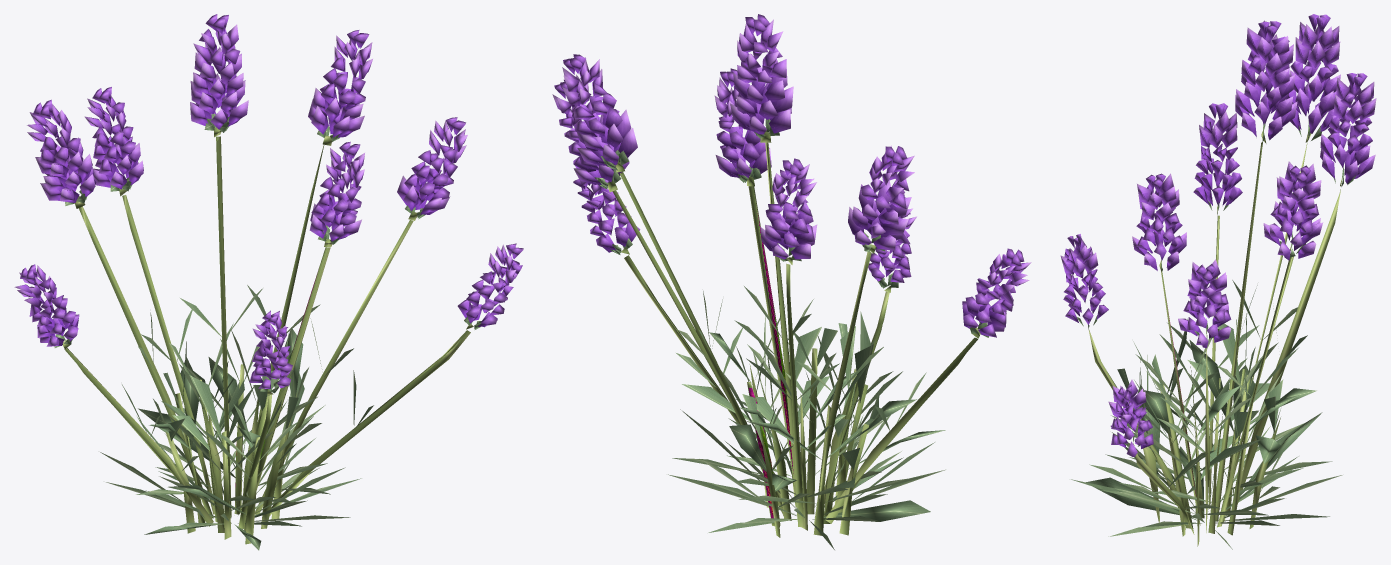
The model's file is NP_Lavender_Ready_LOD1.fbx.
3 renders of one model, left to right at view 1: azimuth 30°, elevation 25°; view 2: azimuth 150°, elevation 25°; view 3: azimuth 270°, elevation 25°, orthographic. The views are drawn at different scales.
Visible parts, largest first — view 1: NP_Lavender_Ready; view 2: NP_Lavender_Ready; view 3: NP_Lavender_Ready.
Part boxes in pixels (left/top/right/bottom): NP_Lavender_Ready: left=14, top=14, right=523, bottom=550; NP_Lavender_Ready: left=552, top=14, right=1031, bottom=549; NP_Lavender_Ready: left=1060, top=14, right=1376, bottom=549.
Size of the model in its own units: 102 by 101 by 56.51.
1 material, 1 textured.
